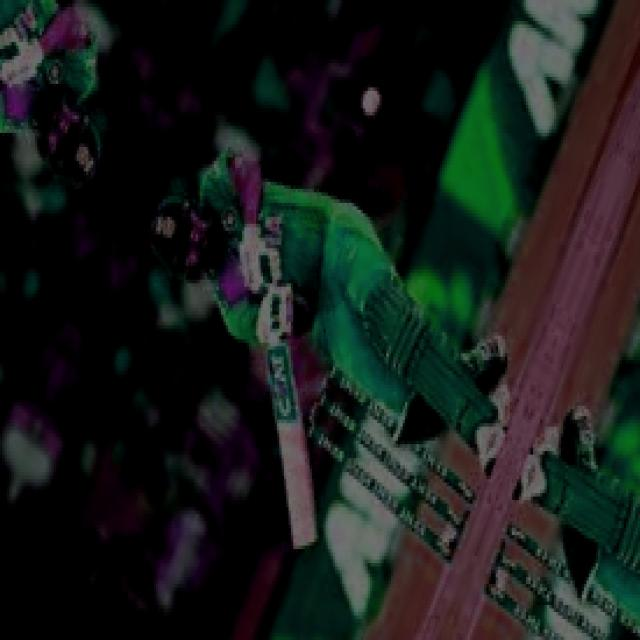toe: (291, 533, 317, 551)
